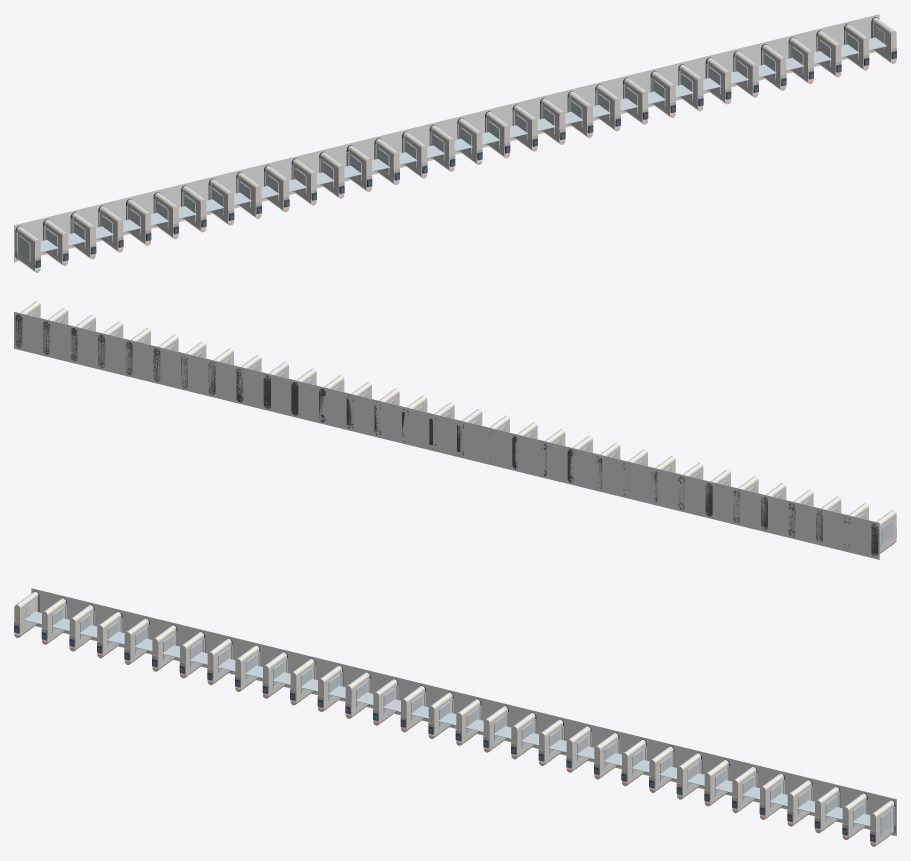
File: Cửa sinh trắc học 32 cửa.glb
The picture shows the model from 3 angles, top to bottom: view 1: azimuth 30°, elevation 25°; view 2: azimuth 150°, elevation 25°; view 3: azimuth 330°, elevation 25°; orthographic projection.
Parts seen in each view (by area): view 1: world; view 2: world; view 3: world.
Part boxes in pixels (bbox=[...]): world: bbox=[14, 14, 896, 272]; world: bbox=[14, 301, 896, 559]; world: bbox=[14, 588, 896, 846].
Bounding box in the file's own units: 32.35 × 1.32 × 1.3.
1 material, 1 textured.
